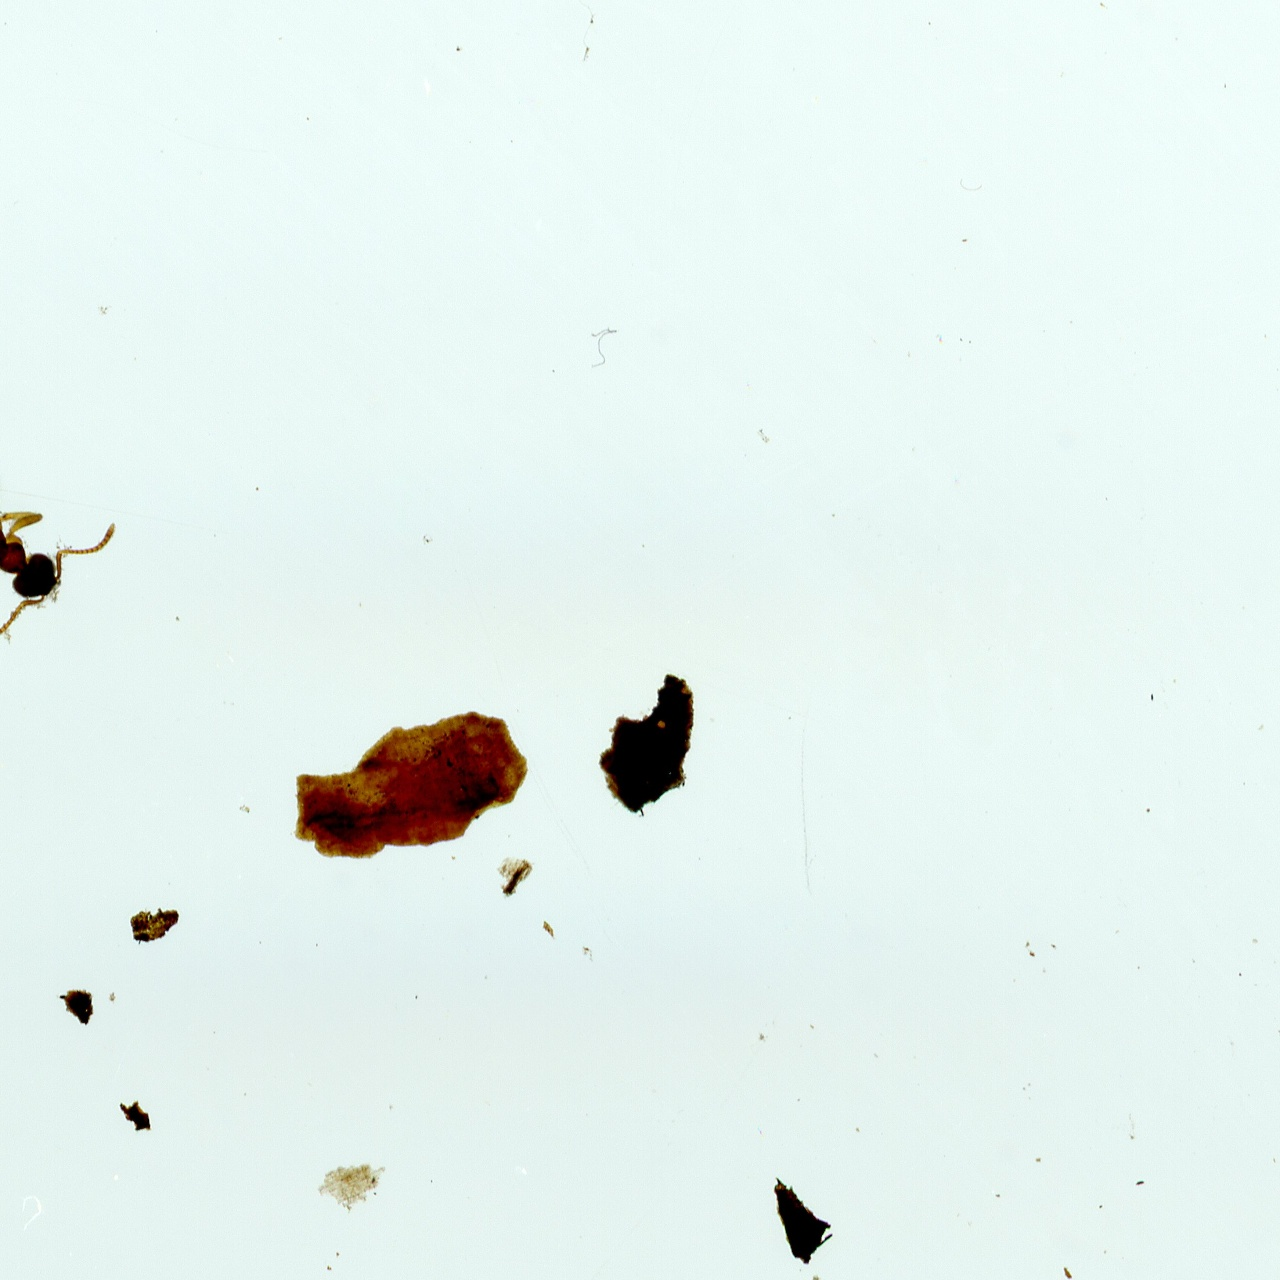arthropod: (0, 448, 116, 639)
